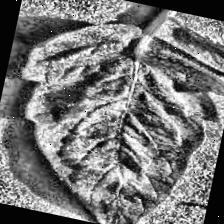spider mites: (62, 92, 114, 142), (121, 57, 180, 97), (50, 40, 106, 80)
